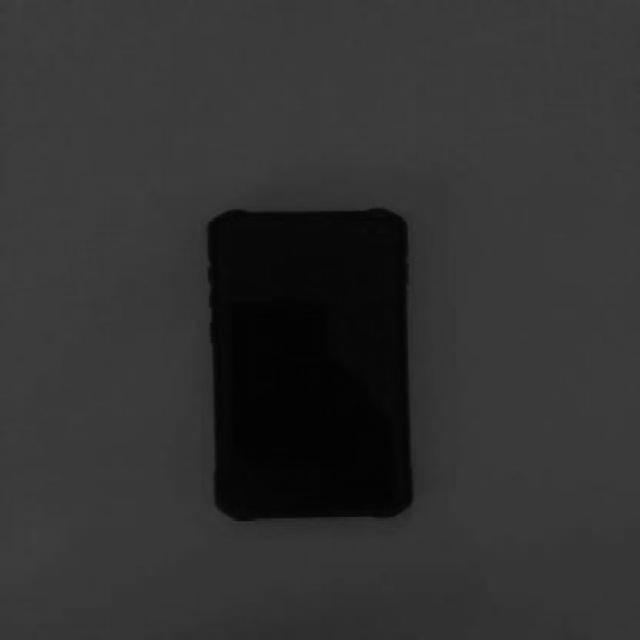fake: (200, 203, 418, 520)
